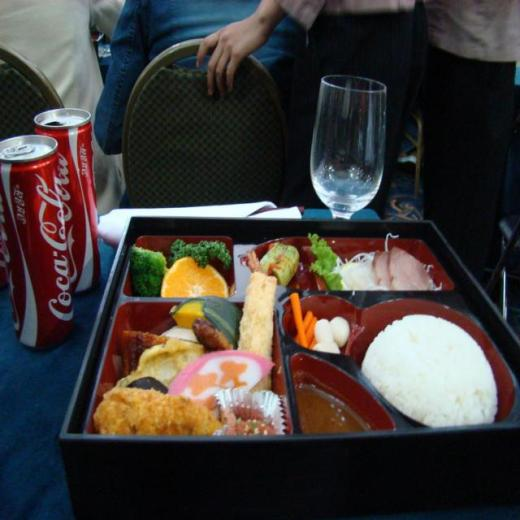Grape: (160, 256, 230, 298)
